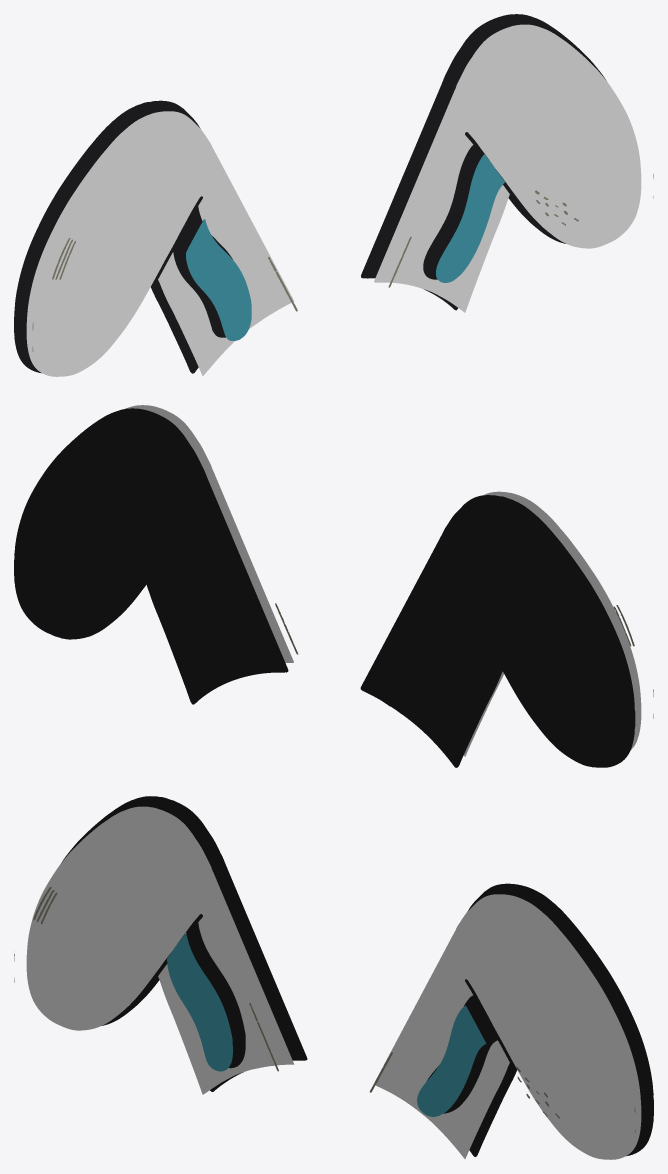
The model's file is 085_ear.gltf.
3 views of the same model, one above another, from view 1: azimuth 30°, elevation 25°; view 2: azimuth 150°, elevation 25°; view 3: azimuth 330°, elevation 25° (orthographic).
Visible parts, largest first — view 1: Curve.003, Curve.002, Curve.001, Curve, Curve.021, Curve.022; view 2: Curve, Curve.001, Curve.002, Curve.003; view 3: Curve.003, Curve.002, Curve, Curve.001, Curve.021, Curve.022.
Part boxes in pixels (x1=…): Curve.003: x1=374, y1=24, x2=641, y2=312; Curve.002: x1=26, y1=111, x2=294, y2=376; Curve.001: x1=361, y1=14, x2=606, y2=310; Curve: x1=14, y1=100, x2=232, y2=373; Curve.021: x1=186, y1=219, x2=251, y2=340; Curve.022: x1=436, y1=154, x2=504, y2=282; Curve: x1=360, y1=495, x2=635, y2=767; Curve.001: x1=14, y1=408, x2=288, y2=704; Curve.002: x1=464, y1=491, x2=641, y2=756; Curve.003: x1=125, y1=405, x2=293, y2=662; Curve.003: x1=374, y1=894, x2=641, y2=1159; Curve.002: x1=26, y1=806, x2=294, y2=1094; Curve: x1=61, y1=796, x2=307, y2=1091; Curve.001: x1=427, y1=883, x2=653, y2=1156; Curve.021: x1=167, y1=933, x2=232, y2=1071; Curve.022: x1=417, y1=1005, x2=486, y2=1116.
Size of the model in its own units: 0.3821 by 0.1668 by 0.02.
